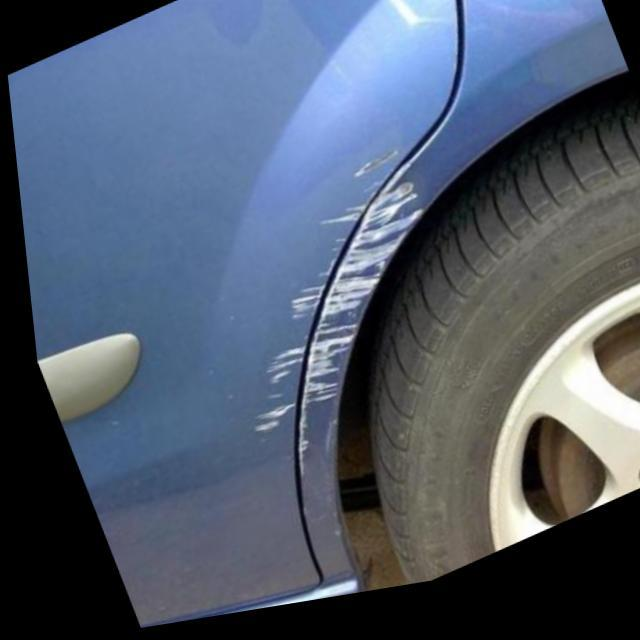rub: (242, 162, 417, 462)
